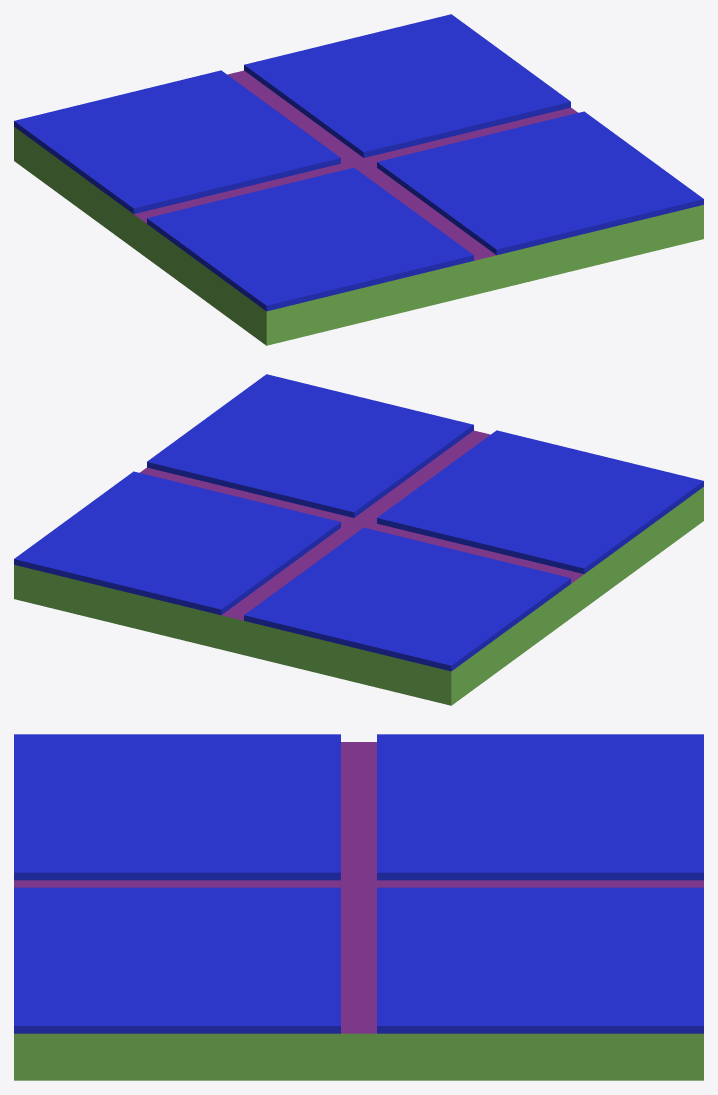
The model's file is Floor1.FBX.
The picture shows the model from 3 angles, top to bottom: view 1: azimuth 30°, elevation 25°; view 2: azimuth 150°, elevation 25°; view 3: azimuth 270°, elevation 25°; orthographic projection. The views are drawn at different scales.
Parts seen in each view (by area): view 1: Floor1_low; view 2: Floor1_low; view 3: Floor1_low.
Part boxes in pixels (x1,y1,x2,y2): Floor1_low: [14, 14, 703, 345]; Floor1_low: [14, 374, 703, 705]; Floor1_low: [14, 734, 703, 1080].
Bounding box in the file's own units: 1.88 × 1.88 × 0.1647.
